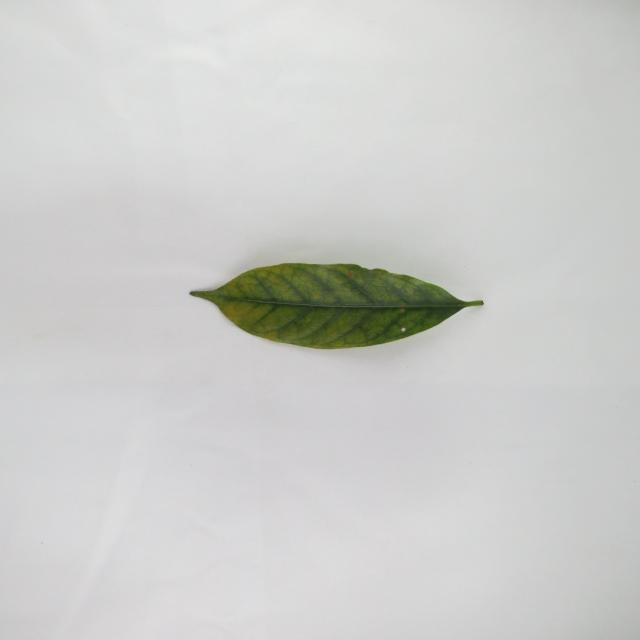DeficienciaNutricional-Magnesio: (190, 264, 483, 349)
